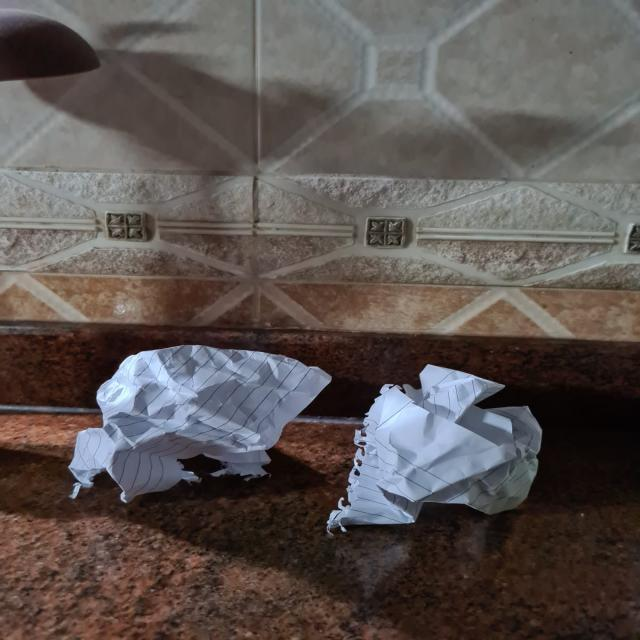Paper: (73, 345, 334, 501), (334, 367, 542, 526)
